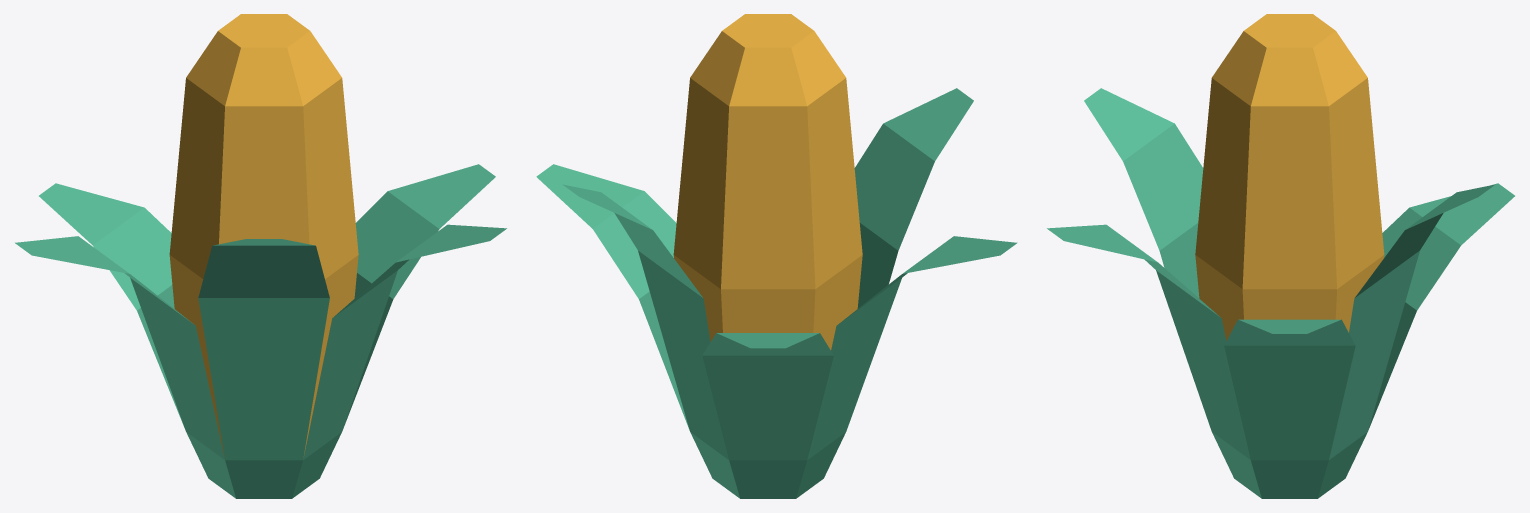
File: corn.dae
3 renders of one model, left to right at view 1: azimuth 30°, elevation 25°; view 2: azimuth 150°, elevation 25°; view 3: azimuth 270°, elevation 25°, orthographic.
Parts seen in each view (by area): view 1: corn; view 2: corn; view 3: corn.
Part boxes in pixels (x1,y1,x2,y2): corn: (15, 14, 506, 498); corn: (536, 14, 1017, 498); corn: (1047, 14, 1514, 498).
Size of the model in its own units: 0.3432 by 0.3162 by 0.3002.
